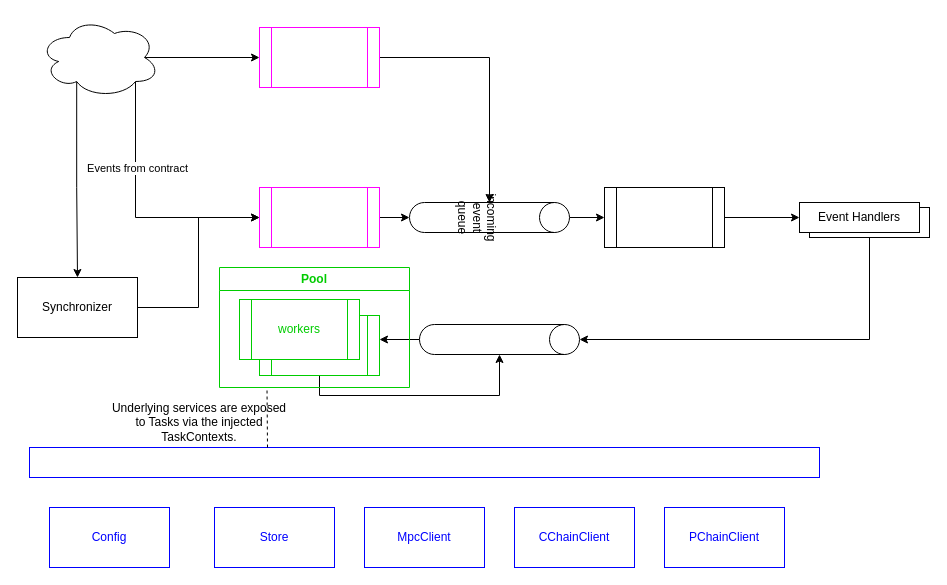
Some shapes in this 947 by 585 pixel diagram are drawn without their labels. Each missing label, with the centre of its shape:
"Indexer of P-CHain Txs / Events" belongs at point (319, 57).
"Router" belongs at point (664, 217).
"Subscriber to C-Chain Events" belongs at point (319, 217).
"task queue" belongs at point (499, 339).
"TaskContext" belongs at point (424, 462).
